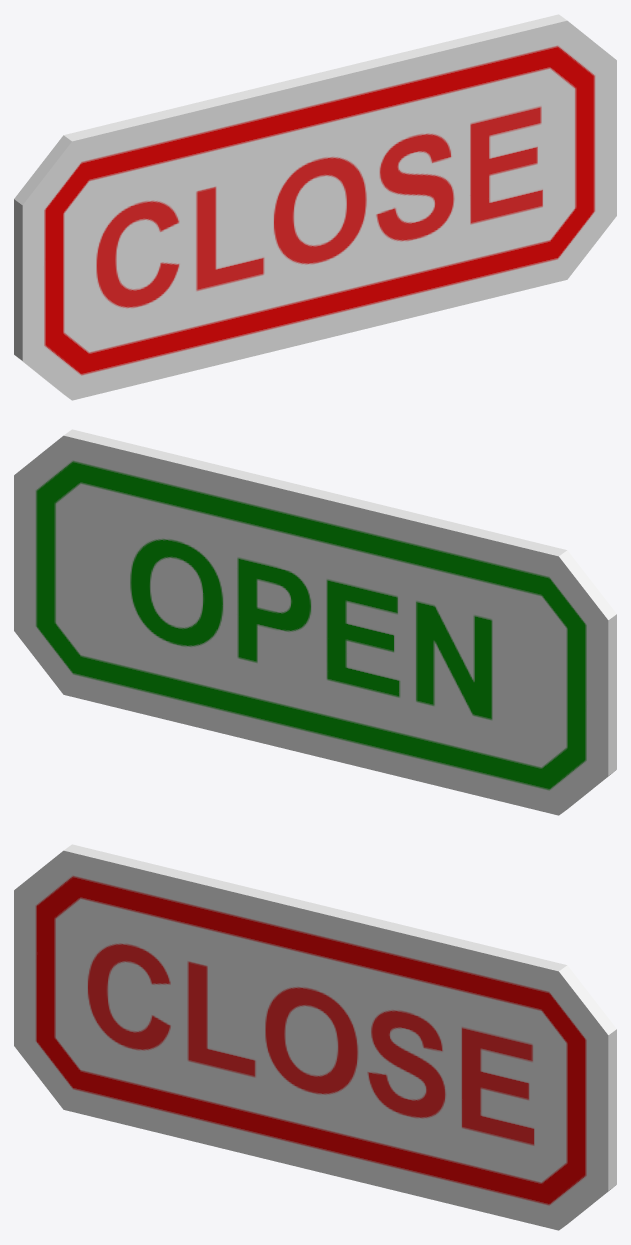
Rendered from StoreSign.fbx.
3 renders of one model, top to bottom at view 1: azimuth 30°, elevation 25°; view 2: azimuth 150°, elevation 25°; view 3: azimuth 330°, elevation 25°, orthographic.
Parts seen in each view (by area): view 1: StoreSign; view 2: StoreSign; view 3: StoreSign.
Boxes of the visible parts, bbox=[...] form: StoreSign: bbox=[14, 14, 616, 400]; StoreSign: bbox=[14, 429, 616, 815]; StoreSign: bbox=[14, 844, 616, 1230].
Size of the model in its own units: 0.6 by 0.25 by 0.015.
